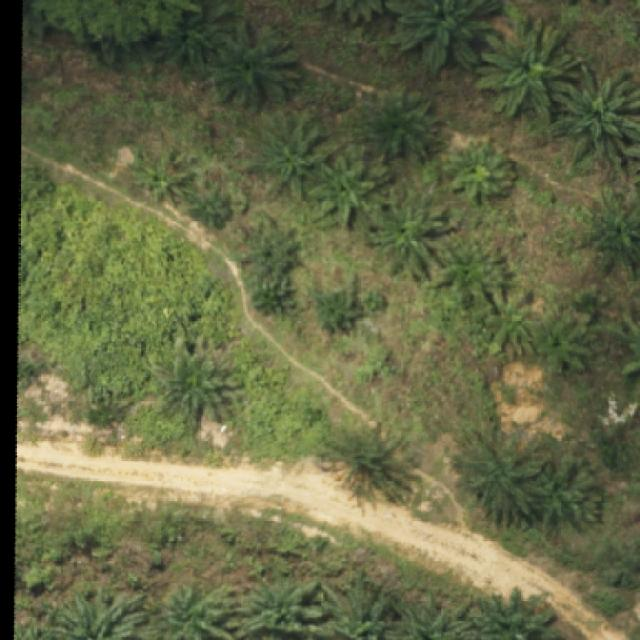Kelapa_Sawit: (475, 10, 580, 127), (451, 427, 552, 524), (149, 334, 240, 434), (366, 185, 456, 284), (322, 419, 422, 506), (208, 20, 301, 108), (254, 109, 340, 200), (358, 86, 440, 162), (437, 231, 518, 303), (308, 150, 378, 228), (530, 454, 604, 526), (447, 135, 516, 203), (233, 212, 302, 280), (533, 304, 595, 374), (484, 284, 538, 356), (132, 146, 193, 209)
